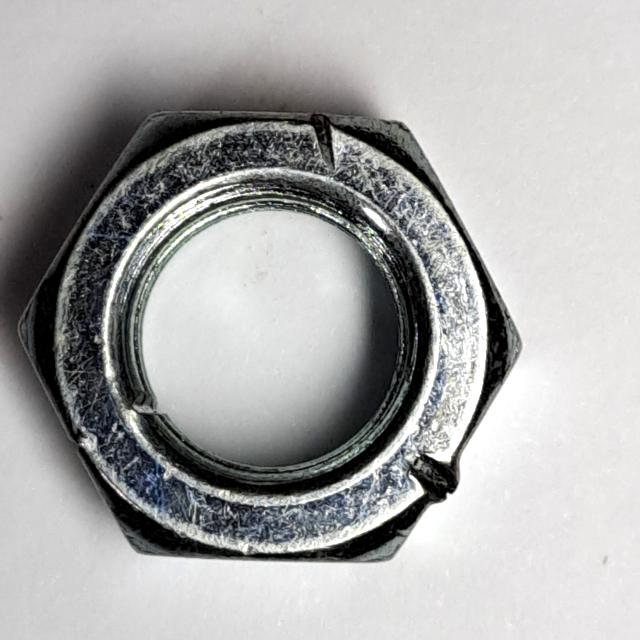Scratches: (8, 96, 536, 586)
